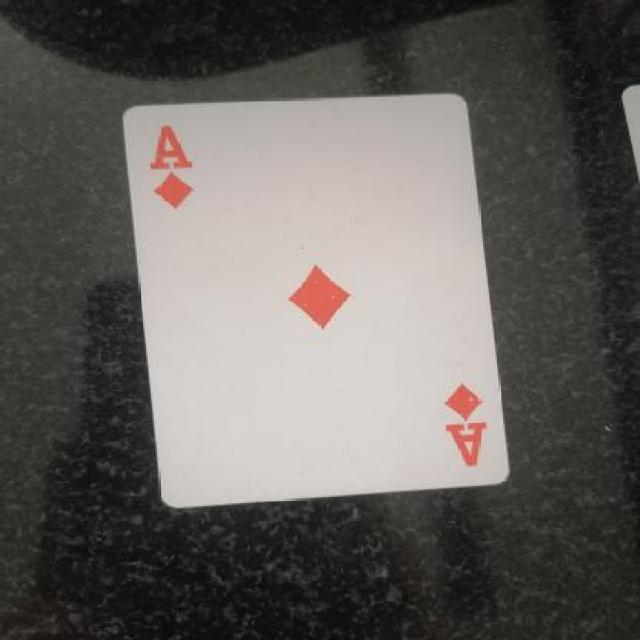AD: (410, 356, 498, 482), (143, 115, 212, 219)
